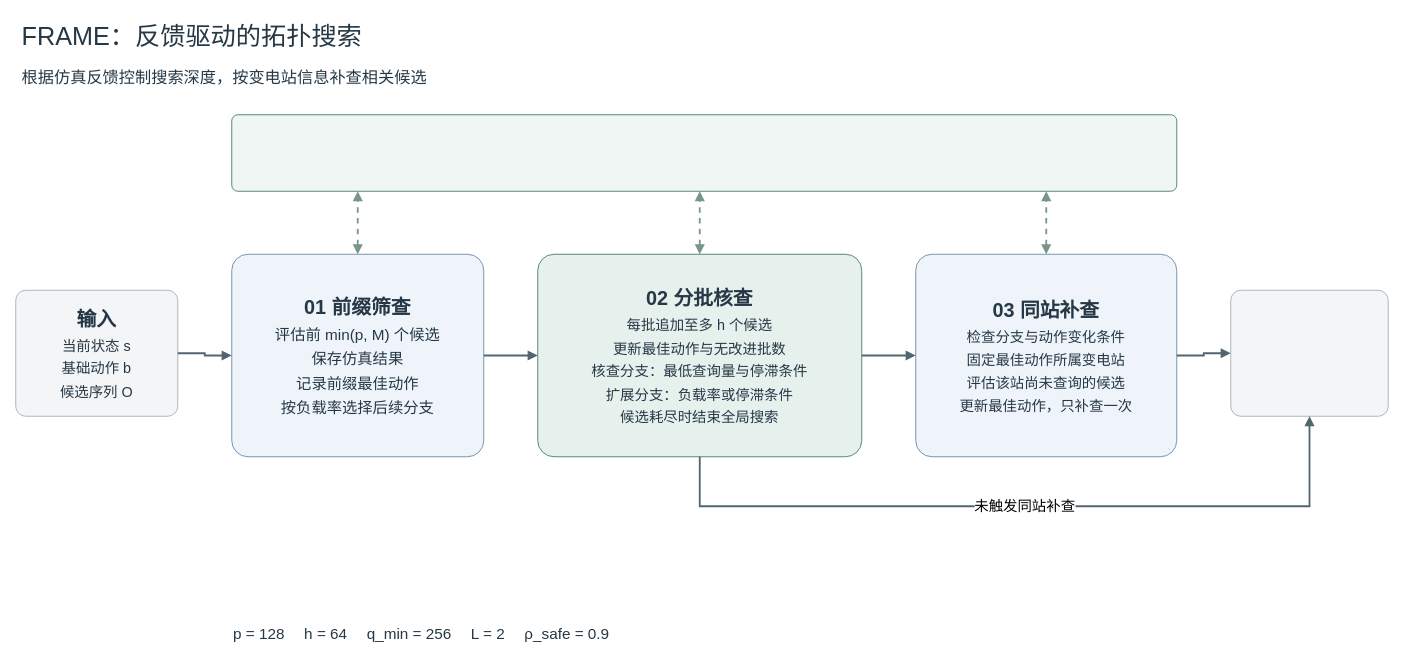
Image size: 1404x665. Some labels were removed from this diagram. Here are the shapes that lost their labels. From the top down, the centre of each, then its label:
point 704,152: 候选仿真与结果缓存 共享本次搜索的反馈 · 每个代表最多仿真一次
point 1309,352: 输出 最佳已评估动作 无合格候选则返回空
